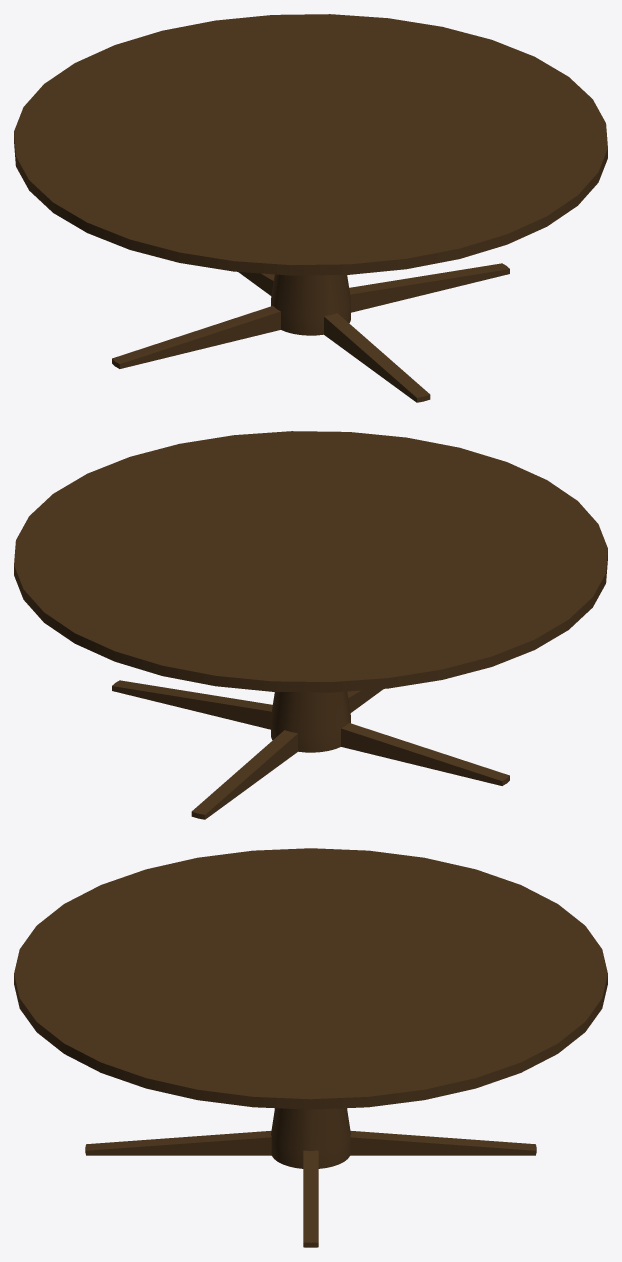
Rendered from Round Table.fbx.
3 views of the same model, one above another, from view 1: azimuth 30°, elevation 25°; view 2: azimuth 150°, elevation 25°; view 3: azimuth 270°, elevation 25° (orthographic).
Visible parts, largest first — view 1: Round Table; view 2: Round Table; view 3: Round Table.
Part boxes in pixels (x1,y1,x2,y2): Round Table: (14, 14, 607, 402); Round Table: (14, 431, 607, 819); Round Table: (14, 848, 607, 1247).
Size of the model in its own units: 320 by 106 by 320.
